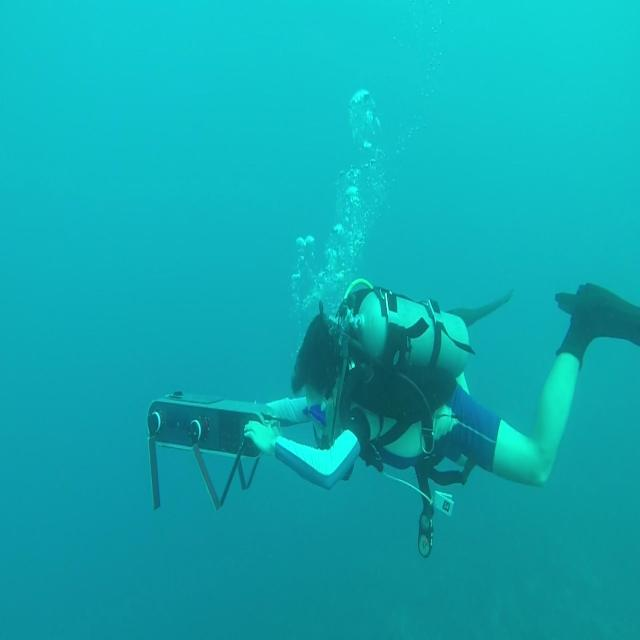human: (242, 277, 638, 557)
